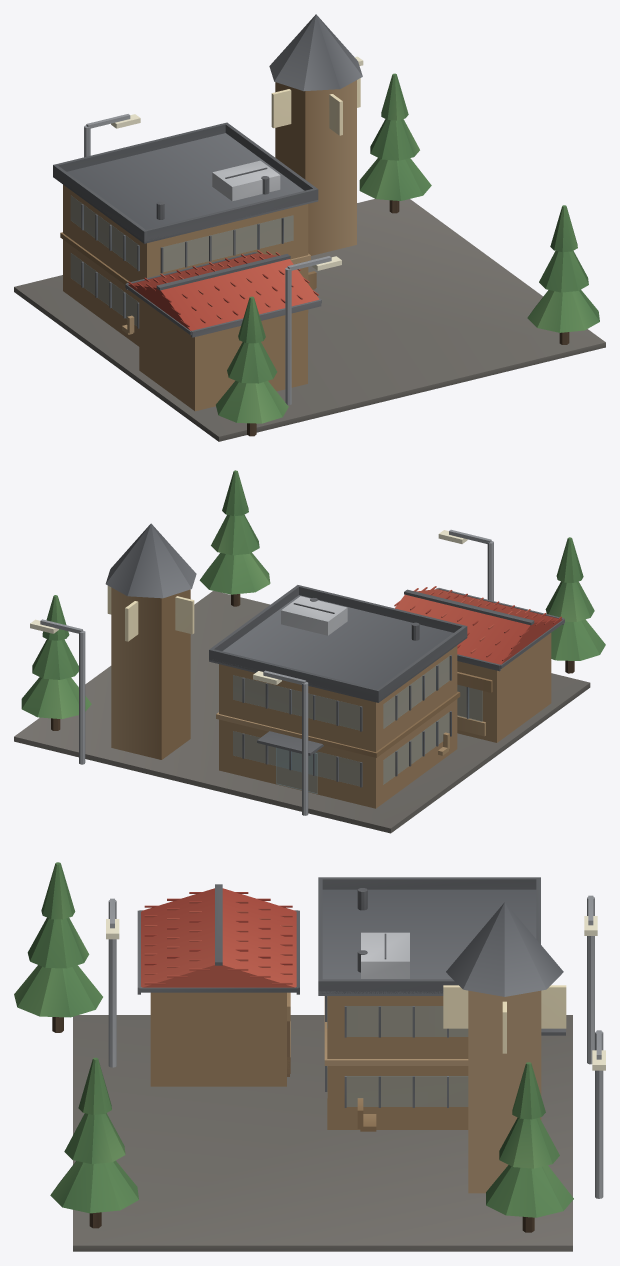
The model's file is Civic_P1.fbx.
3 views of the same model, one above another, from view 1: azimuth 30°, elevation 25°; view 2: azimuth 150°, elevation 25°; view 3: azimuth 270°, elevation 25° (orthographic). The views are drawn at different scales.
Visible parts, largest first — view 1: Civic.Plaza, Civic.Hall, Civic.Shop0, Civic.Tower, Civic.Tree2, Civic.Tree0, Civic.Tree1, Civic.Lamp0, Civic.Lamp2; view 2: Civic.Hall, Civic.Plaza, Civic.Tower, Civic.Shop0, Civic.Tree1, Civic.Tree0, Civic.Tree2, Civic.Lamp1, Civic.Lamp2, Civic.Lamp0; view 3: Civic.Plaza, Civic.Hall, Civic.Shop0, Civic.Tower, Civic.Tree2, Civic.Tree0, Civic.Tree1, Civic.Lamp0, Civic.Lamp1, Civic.Lamp2.
Part boxes in pixels (<box>): Civic.Plaza: <box>14,199,605,441</box>; Civic.Hall: <box>53,122,318,346</box>; Civic.Shop0: <box>125,250,321,411</box>; Civic.Tower: <box>269,14,362,255</box>; Civic.Tree2: <box>216,296,288,436</box>; Civic.Tree0: <box>359,73,431,213</box>; Civic.Tree1: <box>527,205,599,344</box>; Civic.Lamp0: <box>285,256,341,404</box>; Civic.Lamp2: <box>84,114,140,157</box>; Civic.Hall: <box>209,585,467,808</box>; Civic.Plaza: <box>14,591,590,833</box>; Civic.Tower: <box>105,523,196,759</box>; Civic.Shop0: <box>394,586,564,742</box>; Civic.Tree1: <box>199,470,270,606</box>; Civic.Tree0: <box>21,595,91,730</box>; Civic.Tree2: <box>545,537,605,673</box>; Civic.Lamp1: <box>30,619,85,764</box>; Civic.Lamp2: <box>253,670,308,815</box>; Civic.Lamp0: <box>438,529,493,600</box>; Civic.Plaza: <box>73,1015,572,1251</box>; Civic.Hall: <box>318,877,565,1129</box>; Civic.Shop0: <box>137,884,299,1086</box>; Civic.Tower: <box>443,902,566,1193</box>; Civic.Tree2: <box>14,862,102,1032</box>; Civic.Tree0: <box>486,1062,573,1232</box>; Civic.Tree1: <box>50,1057,138,1228</box>; Civic.Lamp0: <box>106,898,119,1067</box>; Civic.Lamp1: <box>592,1030,605,1198</box>; Civic.Lamp2: <box>584,895,597,1064</box>.
Bounding box in the file's own units: 2476 × 1371 × 2604.
